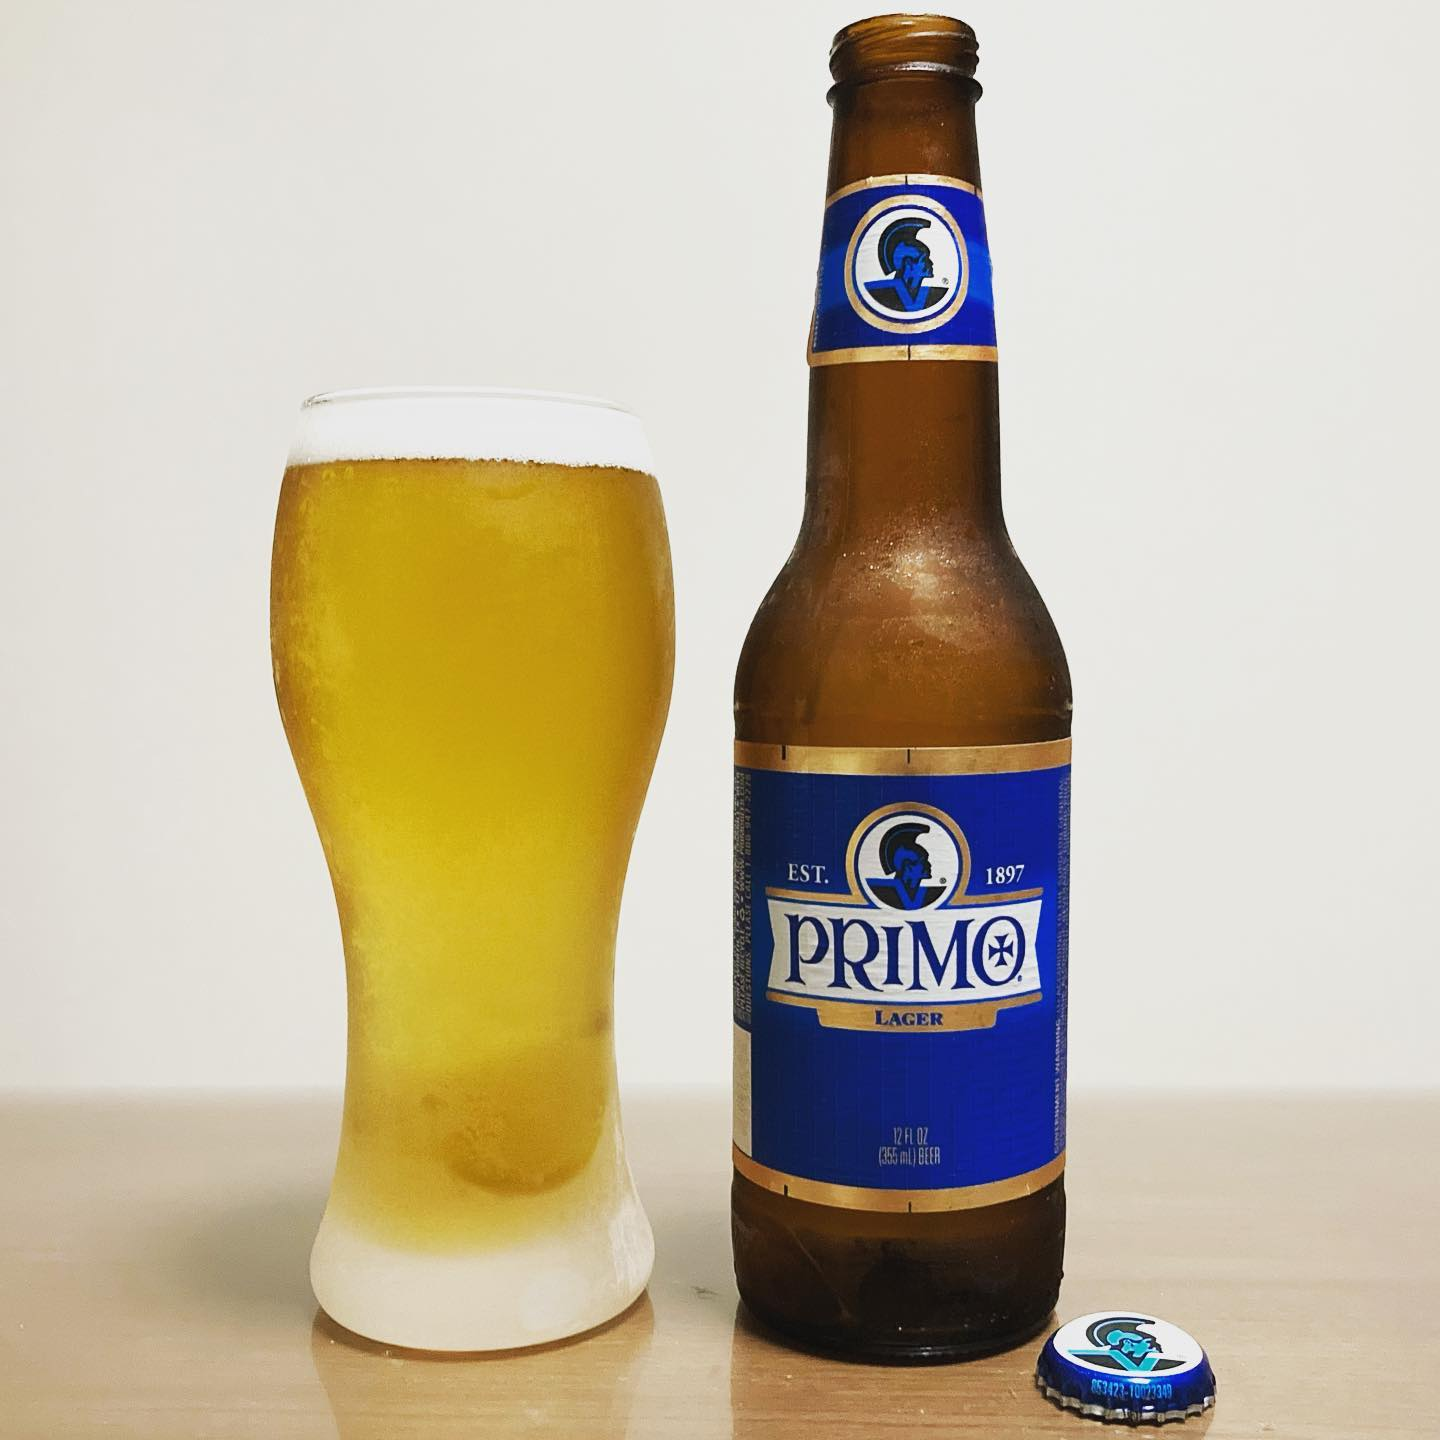alcohol: (723, 7, 1080, 1378), (260, 376, 680, 1367)
